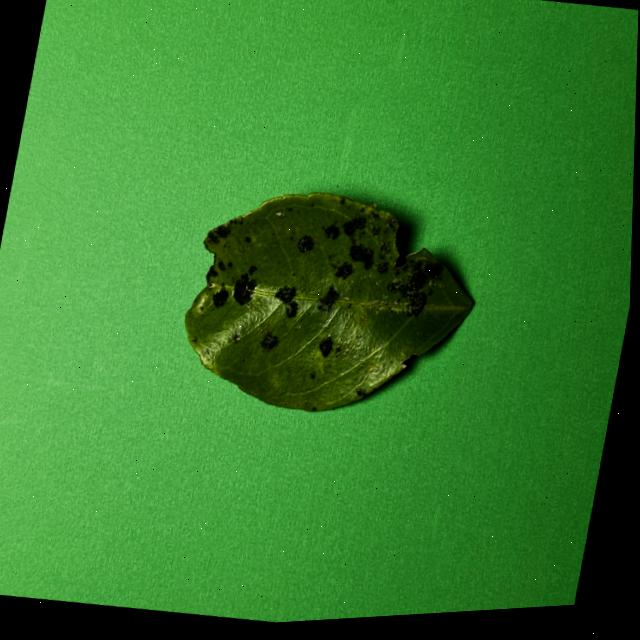sooty_mold: (186, 192, 472, 410)
